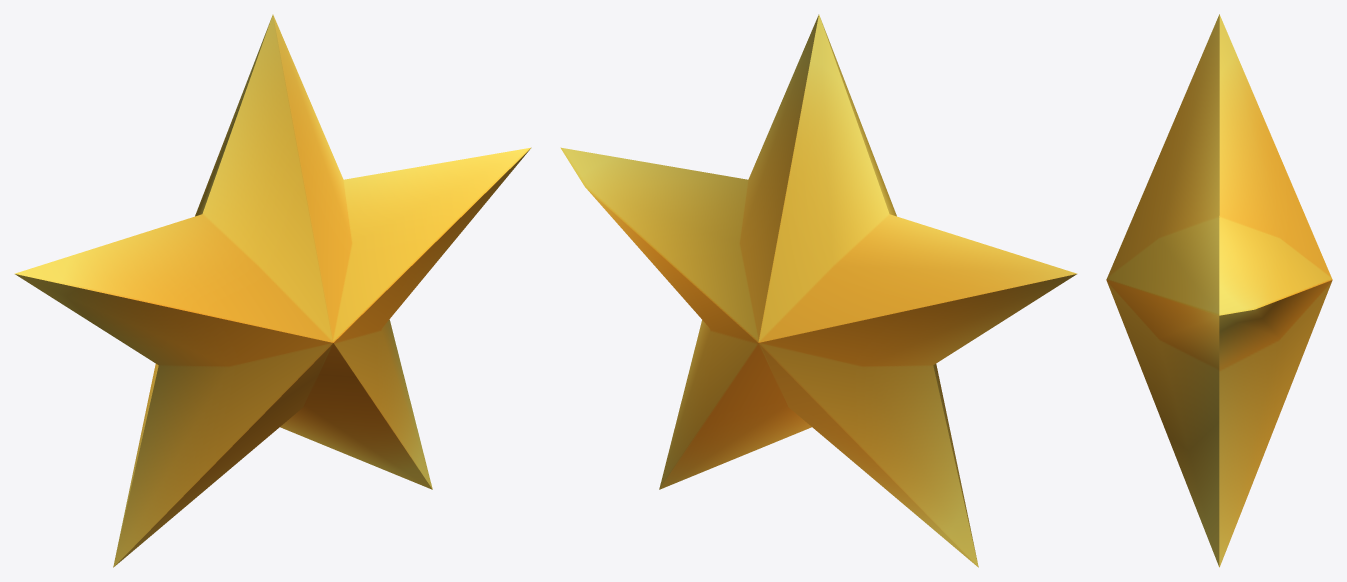
Rendered from ENV2010081.fbx.
3 views of the same model, side by side, from view 1: azimuth 30°, elevation 25°; view 2: azimuth 150°, elevation 25°; view 3: azimuth 270°, elevation 25° (orthographic). The views are drawn at different scales.
Visible parts, largest first — view 1: smENV2010081; view 2: smENV2010081; view 3: smENV2010081.
Part boxes in pixels (left/top/right/bottom): smENV2010081: left=14, top=14, right=531, bottom=567; smENV2010081: left=560, top=14, right=1077, bottom=567; smENV2010081: left=1106, top=14, right=1332, bottom=567.
Bounding box in the file's own units: 20.19 × 19.2 × 8.19.
1 material, 1 textured.
